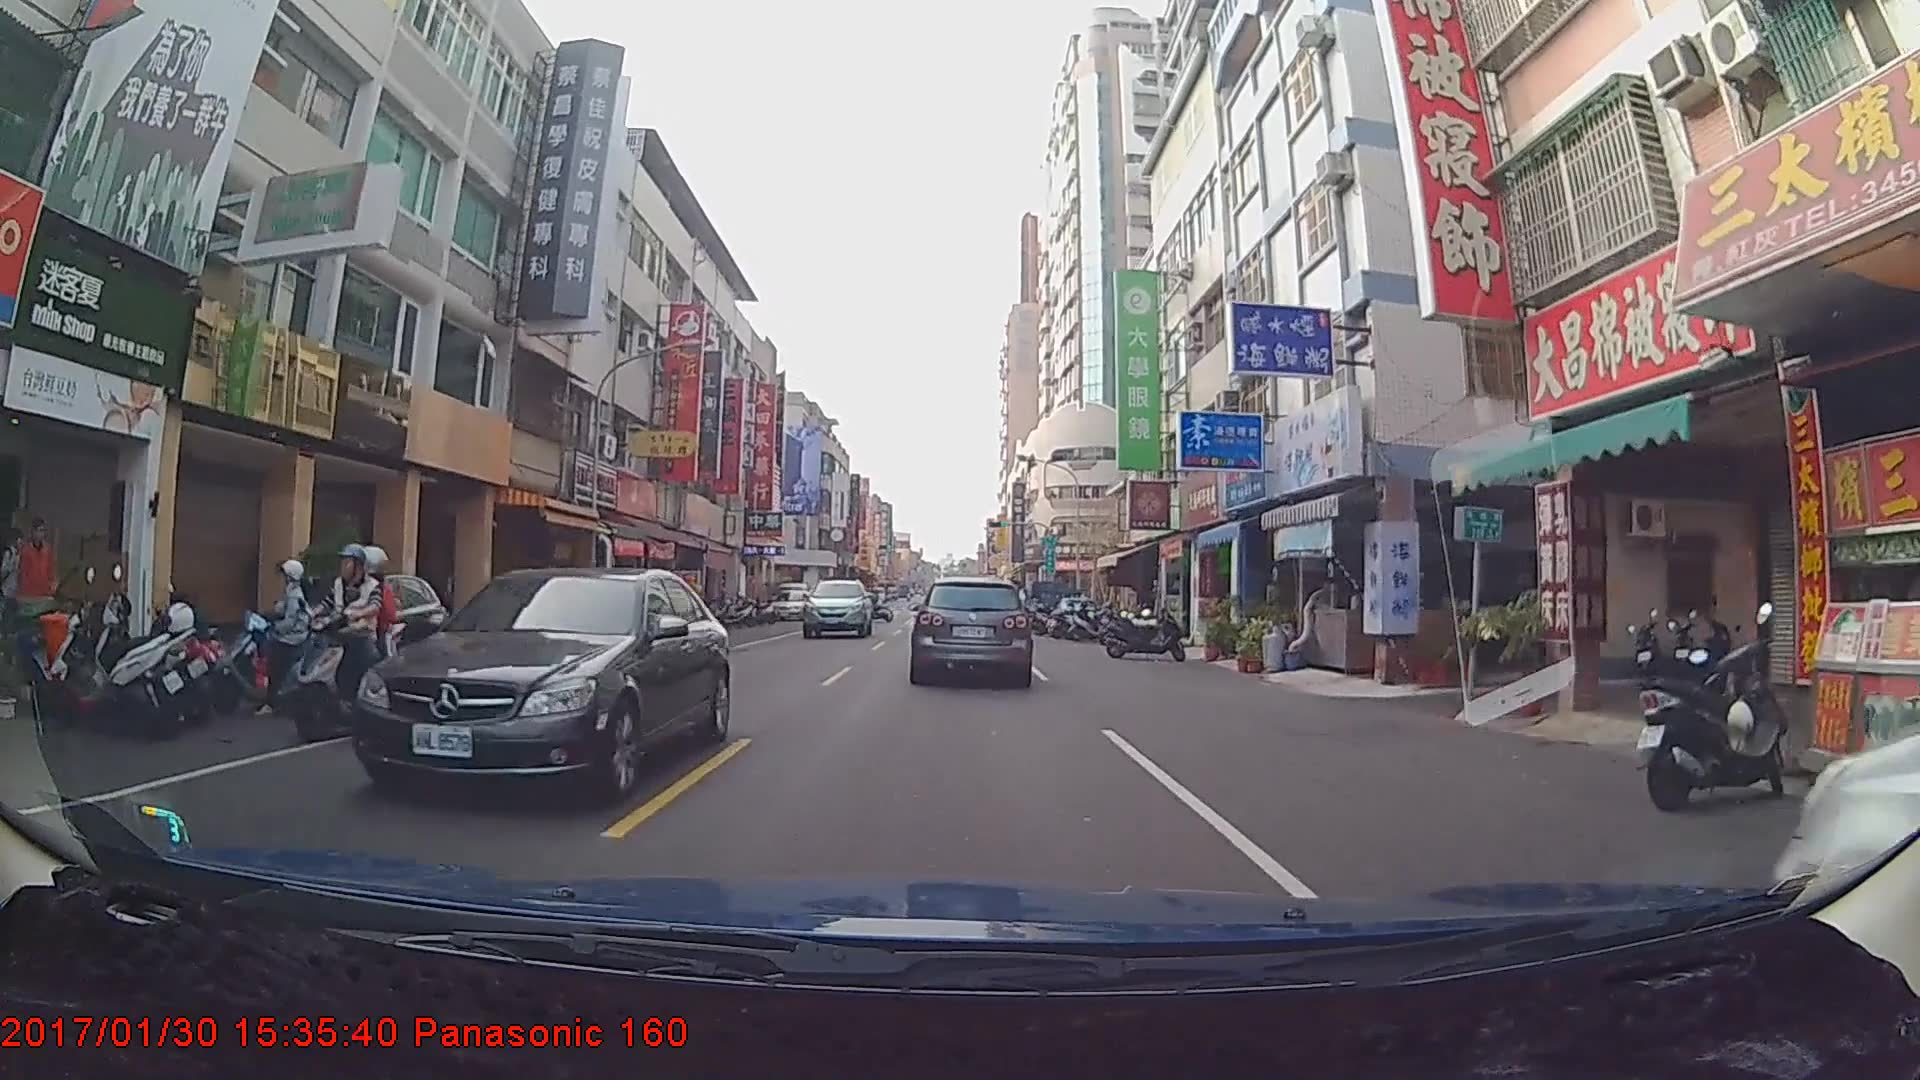pedestrian: (16, 509, 63, 648), (0, 520, 40, 639)
rider: (286, 537, 415, 740)
vehicle: (351, 563, 731, 805), (909, 577, 1029, 684), (802, 578, 873, 640), (1024, 574, 1077, 622)
